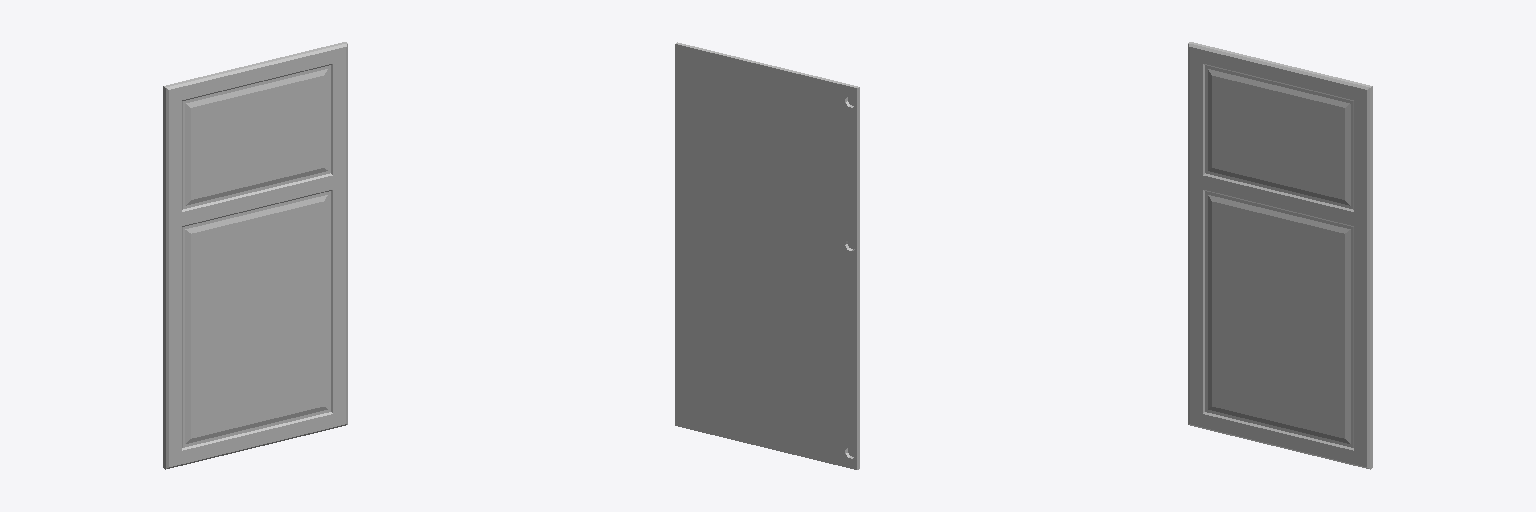
Rendered from IKEA.ART.70221055.obj.
3 views of the same model, side by side, from view 1: azimuth 30°, elevation 25°; view 2: azimuth 150°, elevation 25°; view 3: azimuth 330°, elevation 25° (orthographic).
Visible parts, largest first — view 1: model_model.042; view 2: model_model.042; view 3: model_model.042.
Boxes of the visible parts, x1=… form: model_model.042: x1=163, y1=42, x2=347, y2=469; model_model.042: x1=675, y1=42, x2=859, y2=469; model_model.042: x1=1188, y1=42, x2=1372, y2=469.
Size of the model in its own units: 0.597 by 1.2 by 0.018.